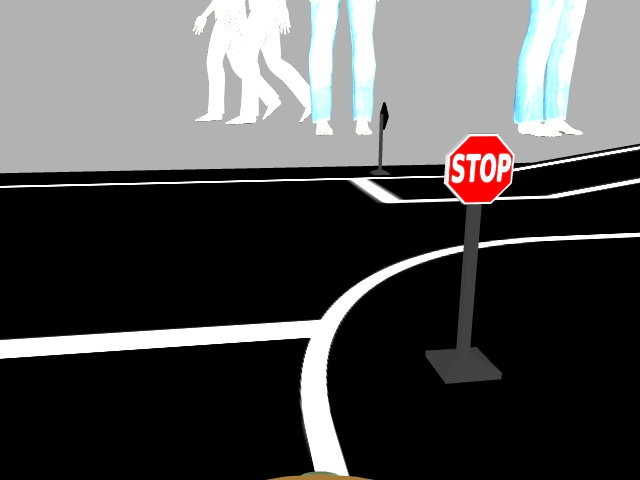Stop: (443, 132, 515, 202)
